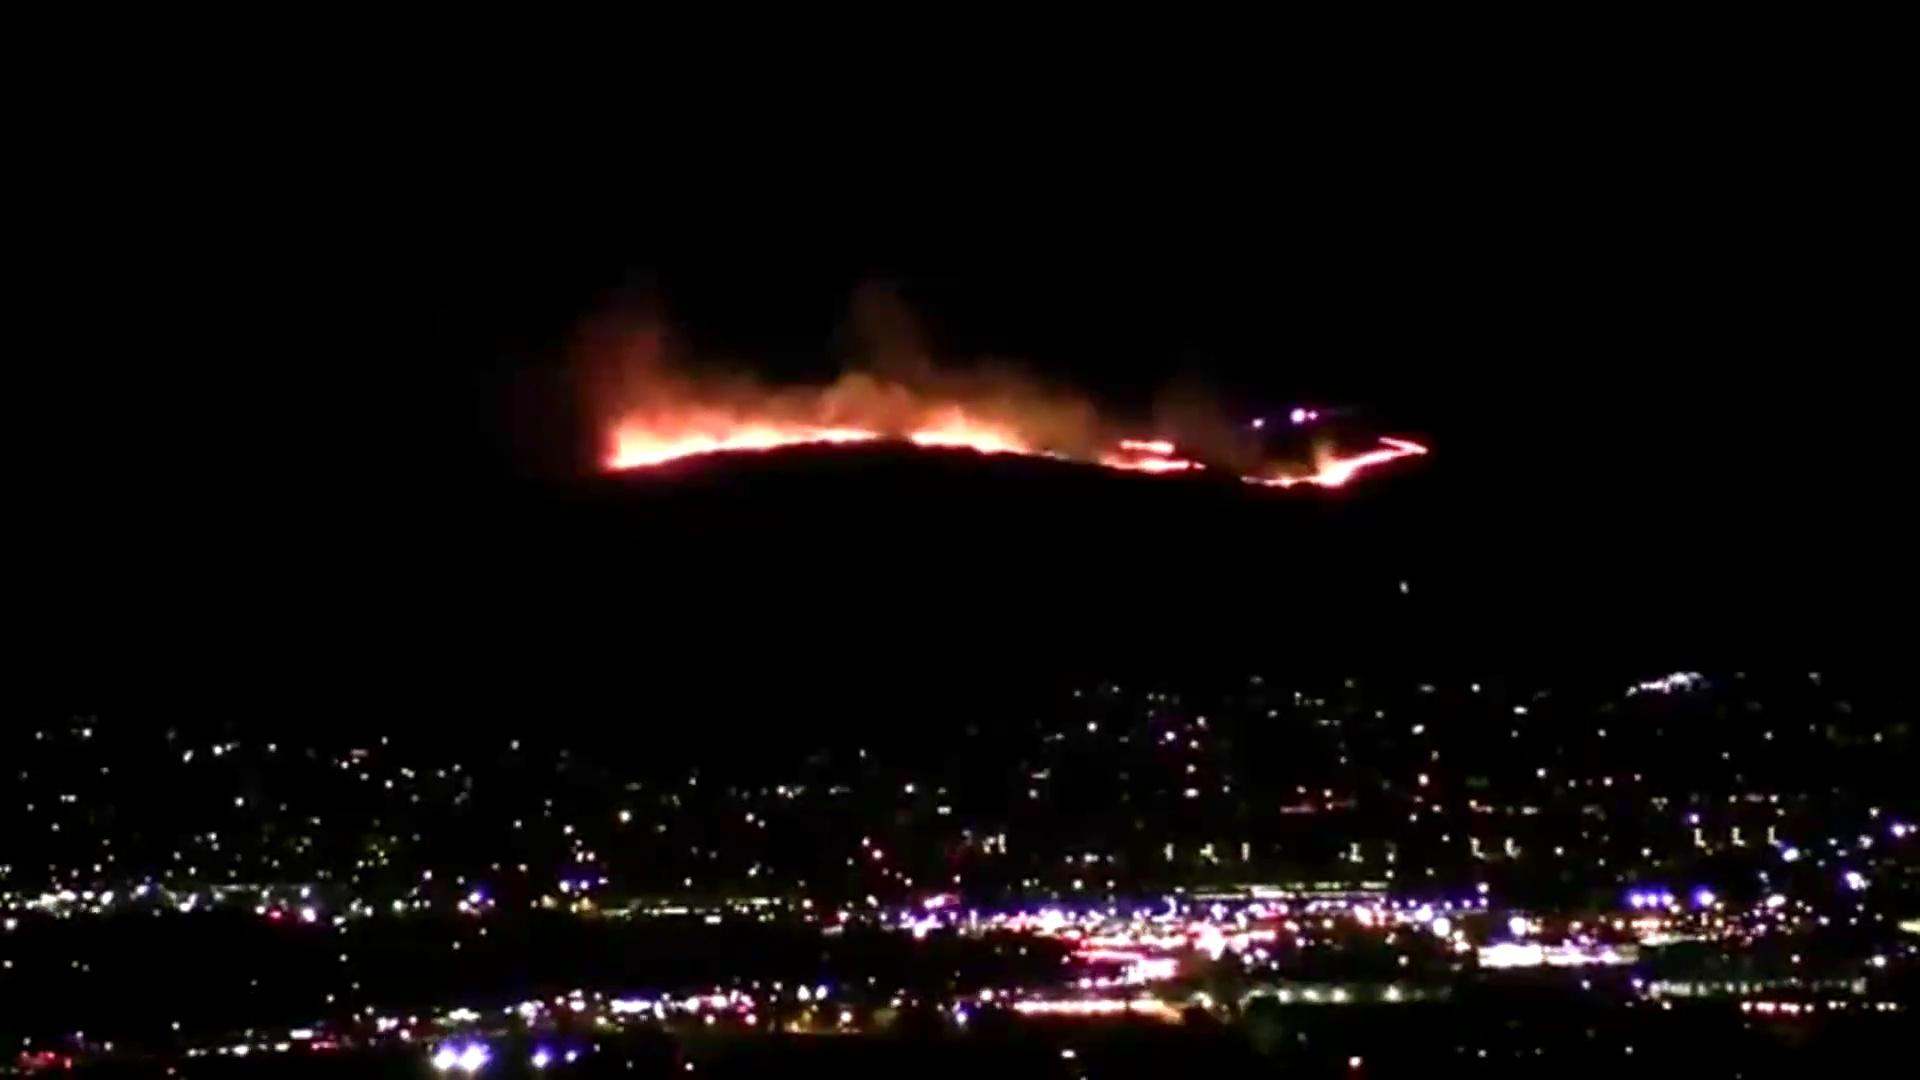fire: (567, 276, 1411, 500)
